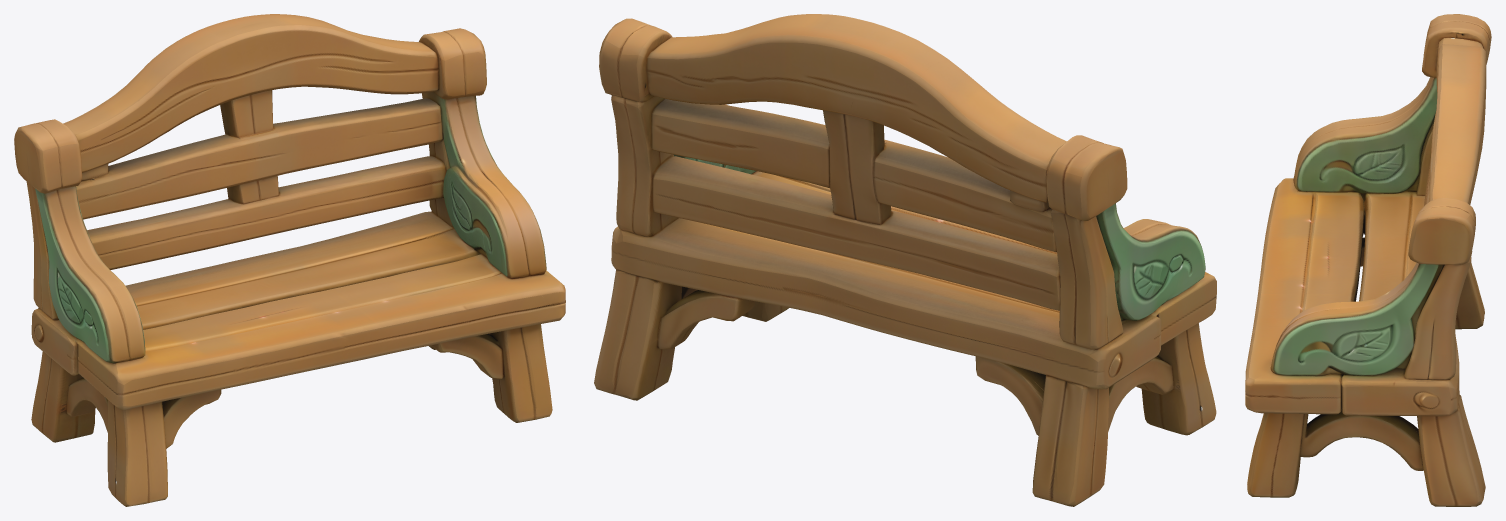
File: garden_bench.glb
3 renders of one model, left to right at view 1: azimuth 30°, elevation 25°; view 2: azimuth 150°, elevation 25°; view 3: azimuth 270°, elevation 25°, orthographic. The views are drawn at different scales.
Visible parts, largest first — view 1: model; view 2: model; view 3: model.
Boxes of the visible parts, <box> form: model: <box>14,14,565,506</box>; model: <box>594,14,1216,506</box>; model: <box>1245,14,1491,506</box>.
Bounding box in the file's own units: 1.9 × 1.49 × 0.9644.
1 material, 1 textured.
